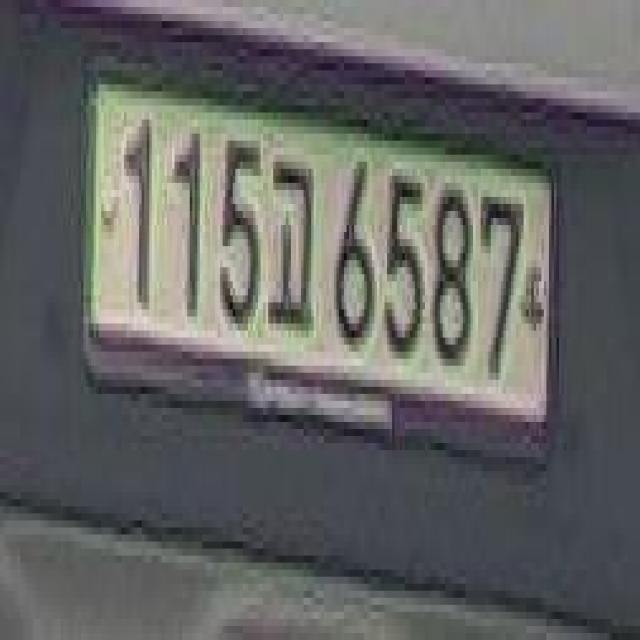illegal_plate: (82, 83, 556, 471)
